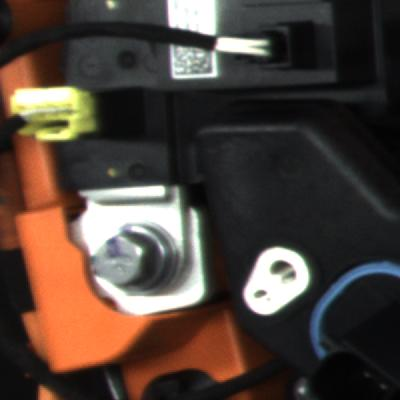nut_b: (78, 215, 187, 299)
